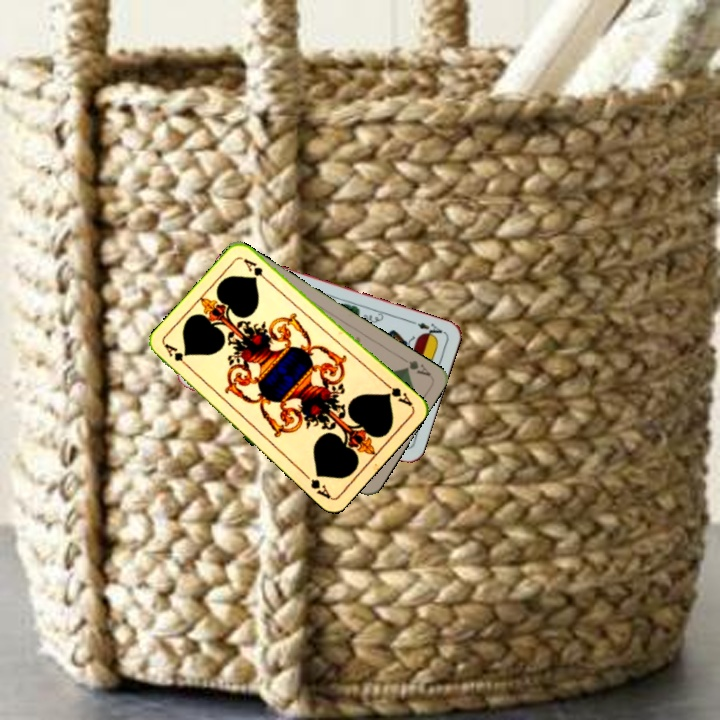EA: (407, 317, 447, 340)
GA: (160, 340, 194, 372), (380, 379, 415, 409), (396, 353, 434, 379)
